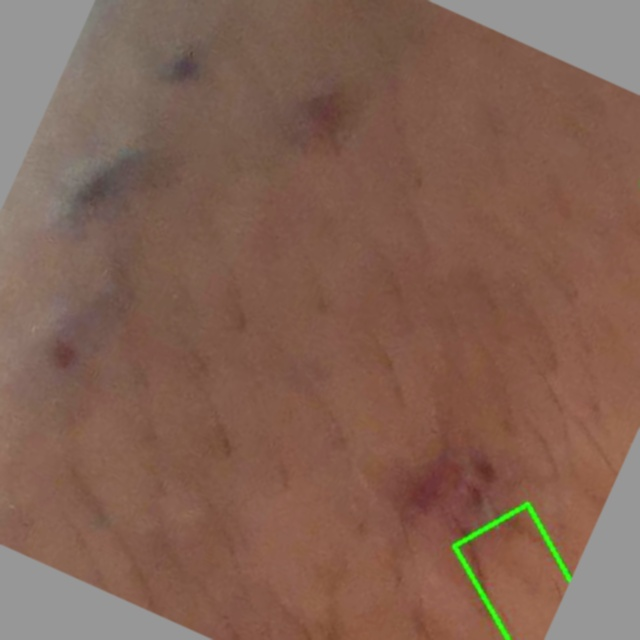Contact Dermatitis: (455, 503, 571, 639)
